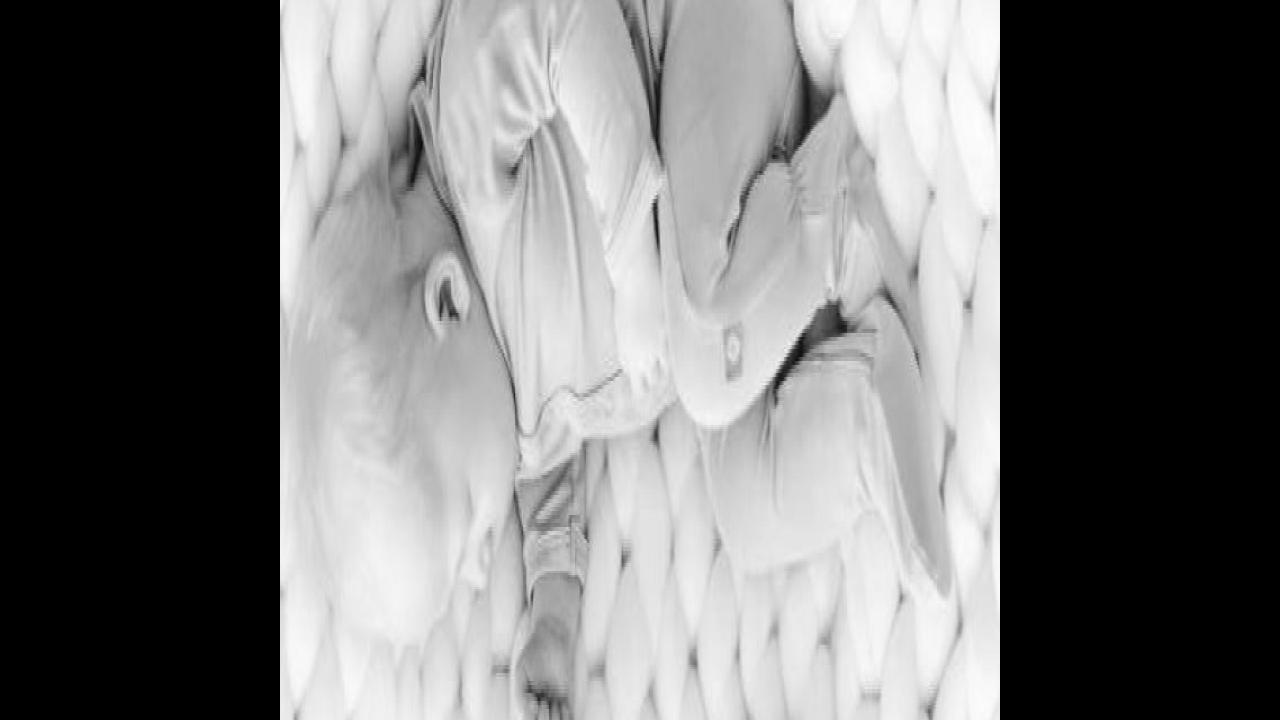hand: (614, 246, 672, 406), (508, 620, 582, 720)
